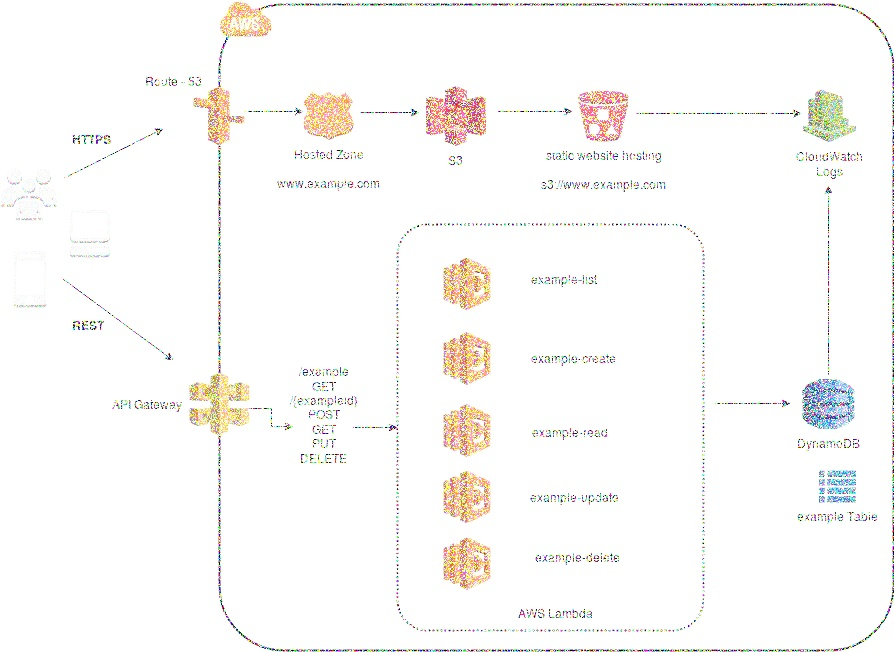API-Gateway: (182, 373, 255, 438)
Cloud Watch: (799, 85, 860, 144)
Dynamo DB: (799, 372, 860, 433)
Lambda: (434, 400, 504, 460), (434, 468, 500, 528), (435, 251, 497, 313), (442, 326, 499, 386), (439, 535, 496, 593)
Mobile Client: (5, 240, 54, 315)
Route53: (299, 80, 359, 147), (191, 84, 250, 148)
S3: (427, 78, 491, 148), (573, 80, 631, 146)
Table: (812, 462, 860, 508)
Users: (2, 161, 61, 226)
Web Clients: (67, 205, 115, 263)
aws: (217, 0, 274, 43)
